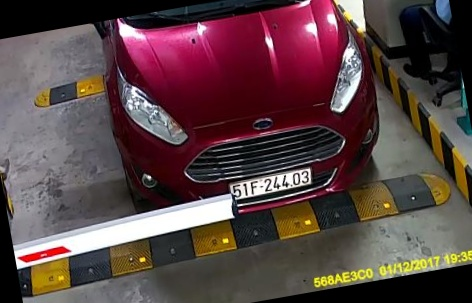plate: (228, 167, 317, 218)
